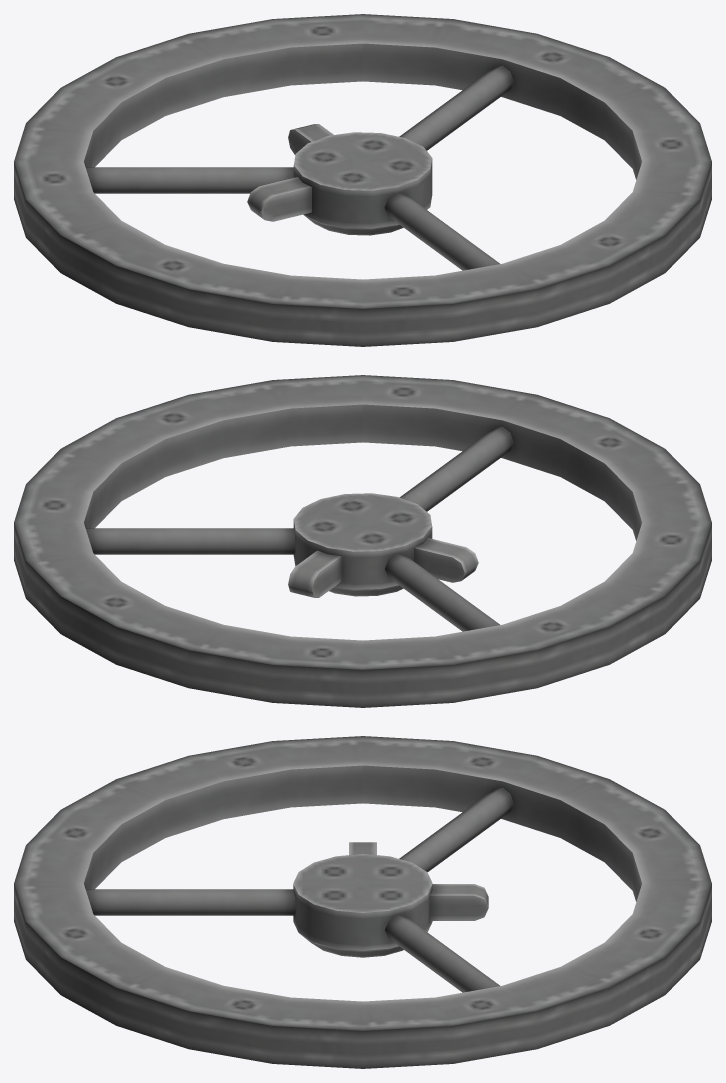
File: 4mv_engine_s0_1_s0base.obj
The picture shows the model from 3 angles, top to bottom: view 1: azimuth 30°, elevation 25°; view 2: azimuth 150°, elevation 25°; view 3: azimuth 270°, elevation 25°; orthographic projection.
Parts seen in each view (by area): view 1: mesh1; view 2: mesh1; view 3: mesh1.
Part boxes in pixels (<box>): mesh1: <box>14,14,711,346</box>; mesh1: <box>14,375,711,707</box>; mesh1: <box>14,736,711,1068</box>.
Bounding box in the file's own units: 0.625 × 0.05 × 0.625.
1 material, 1 textured.
